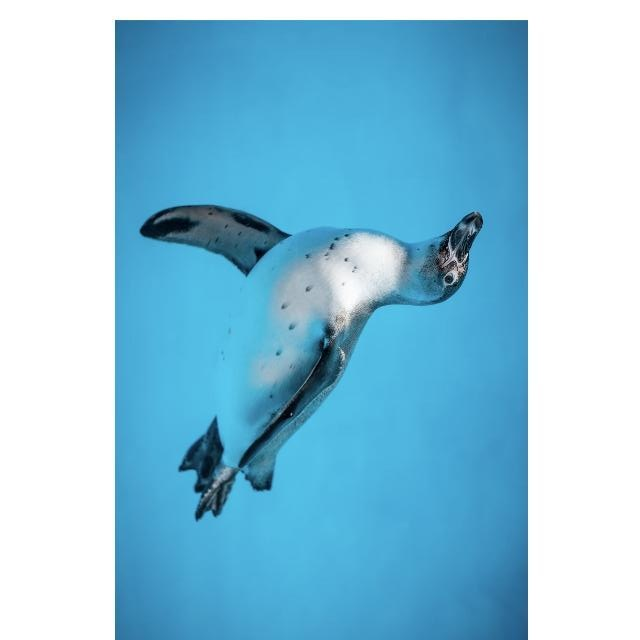penguin: (140, 193, 484, 523)
